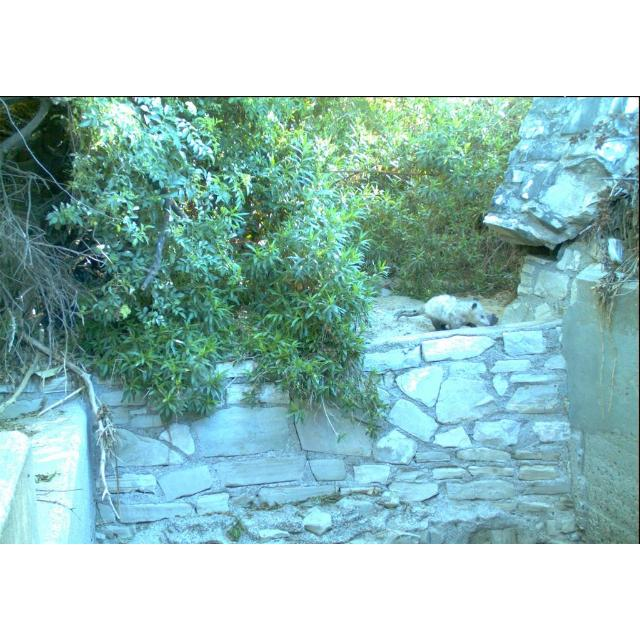animals: (394, 290, 498, 332)
